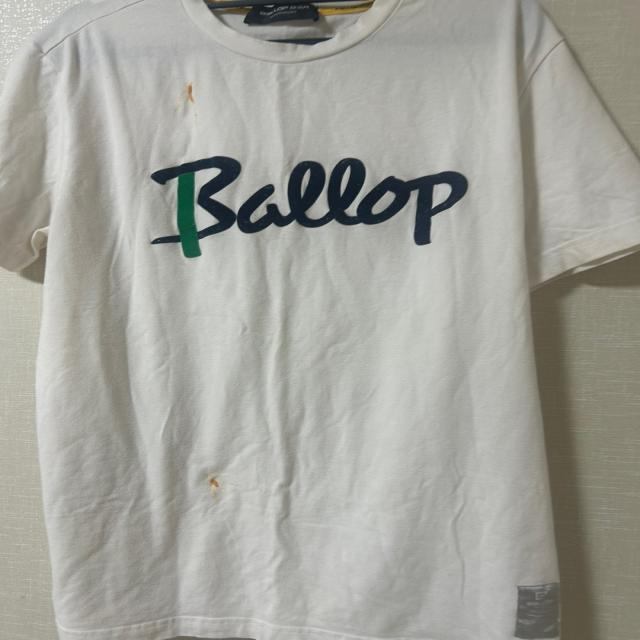stain: (168, 78, 212, 102), (197, 473, 230, 492)
